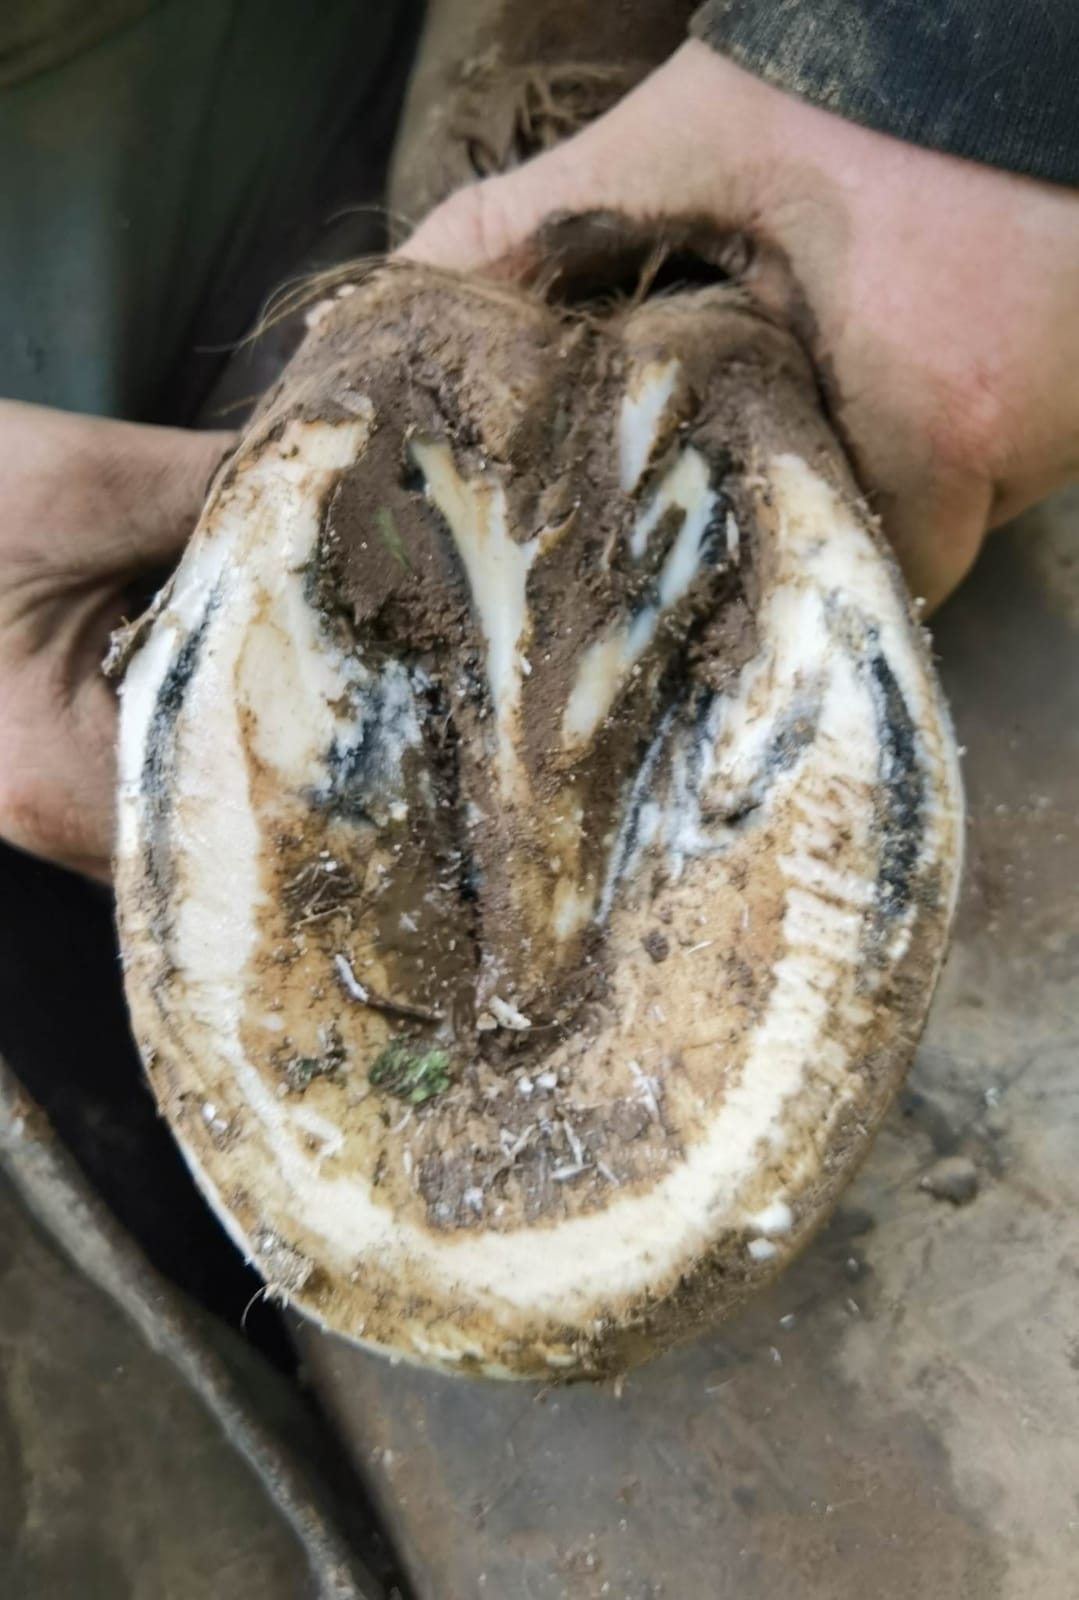horsesole: (112, 368, 966, 1391)
